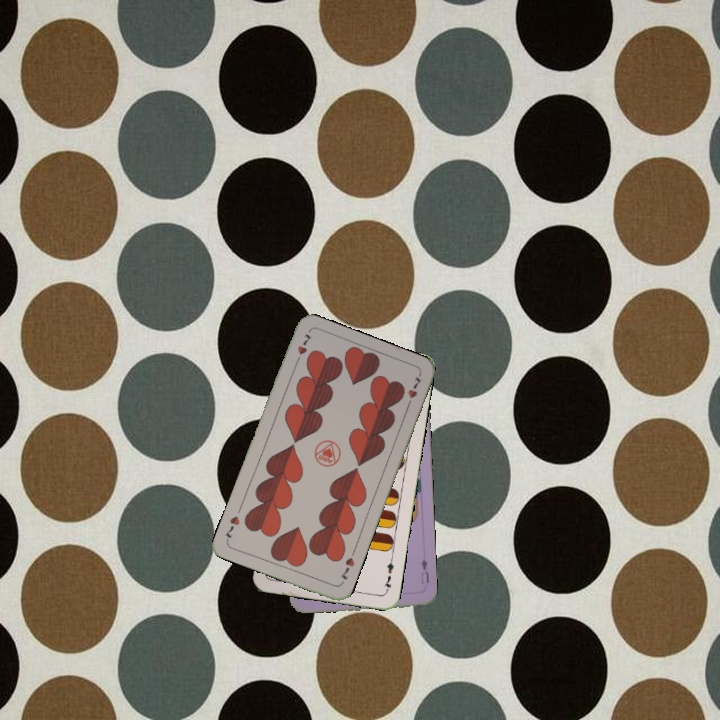E7: (380, 554, 396, 594)
EU: (417, 555, 432, 586)
H7: (291, 330, 315, 367), (336, 553, 357, 582)
